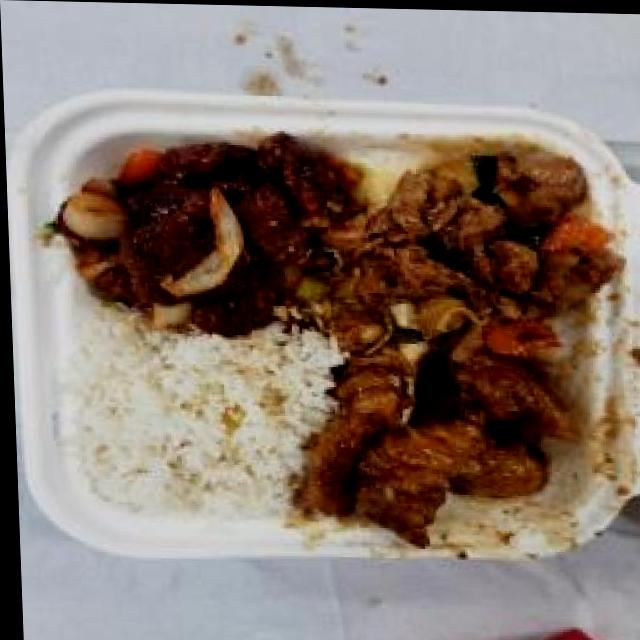Beijing Beef: (46, 121, 355, 329)
Kung Pao Chicken: (322, 136, 618, 364)
The Original Orange Chicken: (300, 350, 578, 533)
White Steamed Rice: (64, 321, 320, 520)
